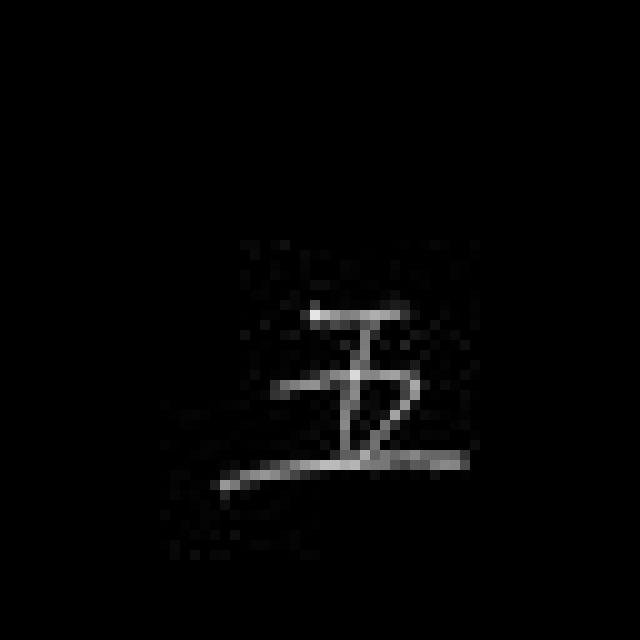5 -five-: (212, 300, 474, 500)
